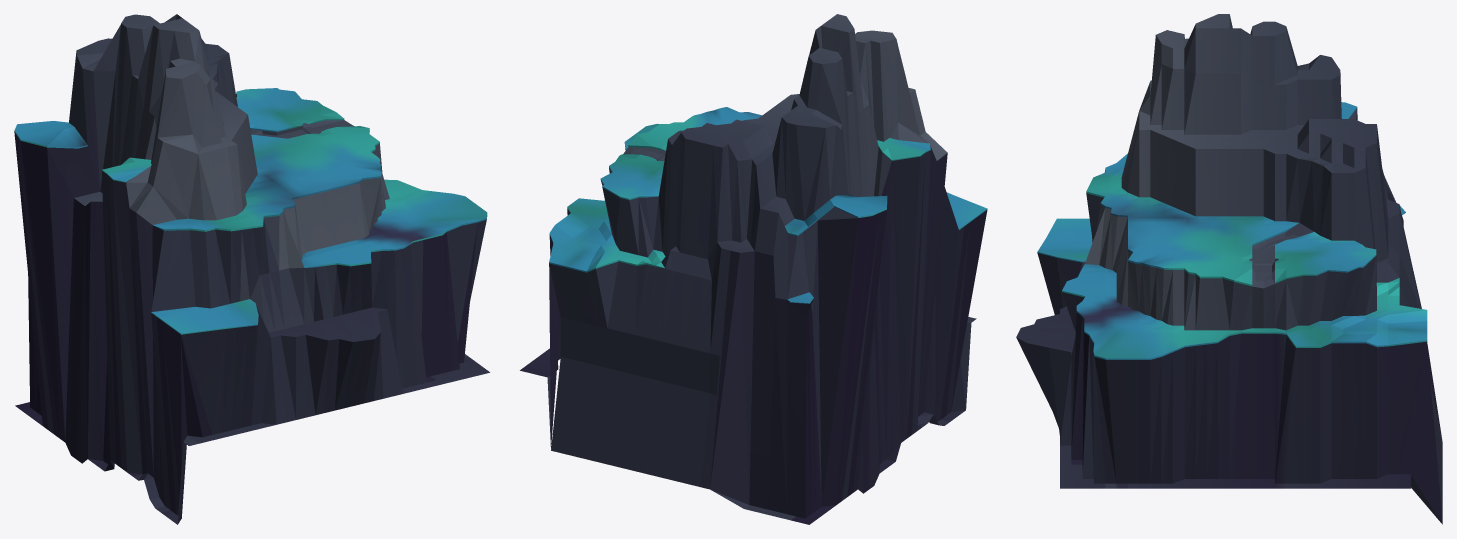
The model's file is Terrain_HigherPlateau.fbx.
3 renders of one model, left to right at view 1: azimuth 30°, elevation 25°; view 2: azimuth 150°, elevation 25°; view 3: azimuth 270°, elevation 25°, orthographic. The views are drawn at different scales.
Visible parts, largest first — view 1: Plane.049; view 2: Plane.049; view 3: Plane.049.
Boxes of the visible parts, x1=… form: Plane.049: x1=14, y1=14, x2=489, y2=524; Plane.049: x1=520, y1=14, x2=987, y2=524; Plane.049: x1=1016, y1=14, x2=1442, y2=524.
Bounding box in the file's own units: 12604 × 14875 × 12881.
